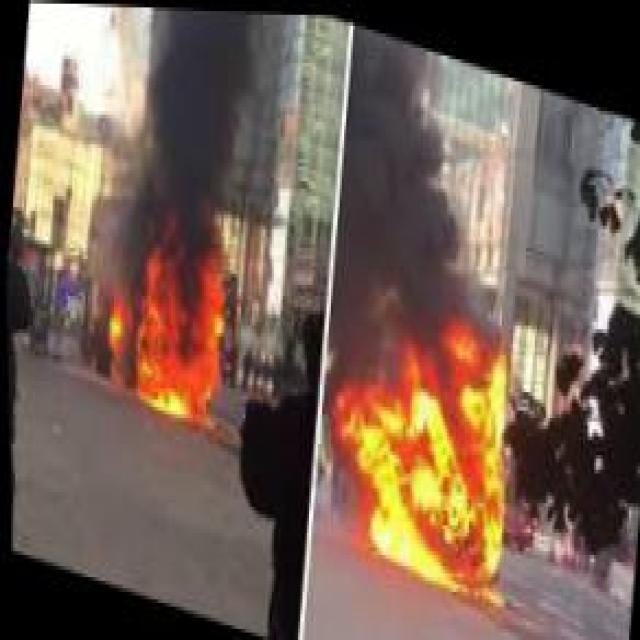Fire: (316, 278, 542, 606), (72, 188, 259, 452)
Smoke: (333, 22, 520, 322), (112, 3, 296, 252)
